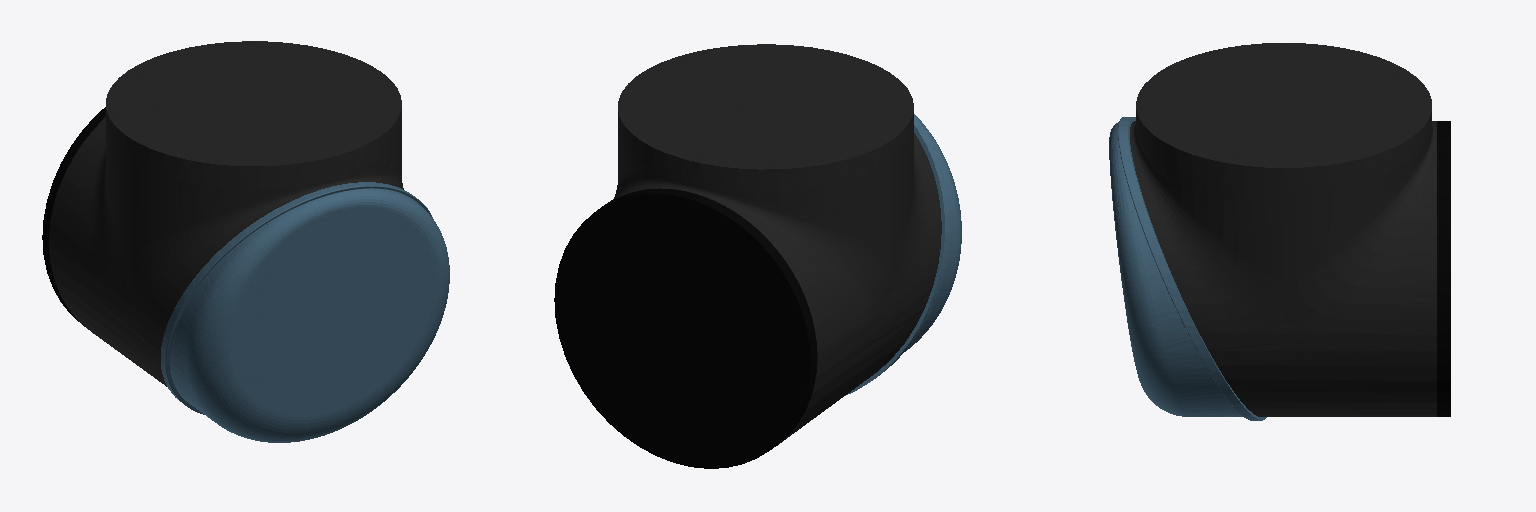
The picture shows the model from 3 angles: view 1: azimuth 30°, elevation 25°; view 2: azimuth 150°, elevation 25°; view 3: azimuth 270°, elevation 25°; orthographic projection.
Bounding box in the file's own units: 0.119 × 0.13 × 0.1337.
Materials: 1 (1 with a texture image).